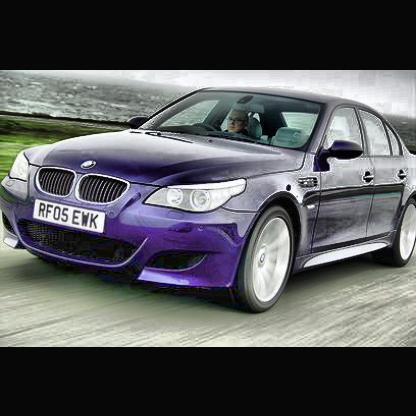BMW M5 Sedan 2010: (2, 88, 416, 317)
